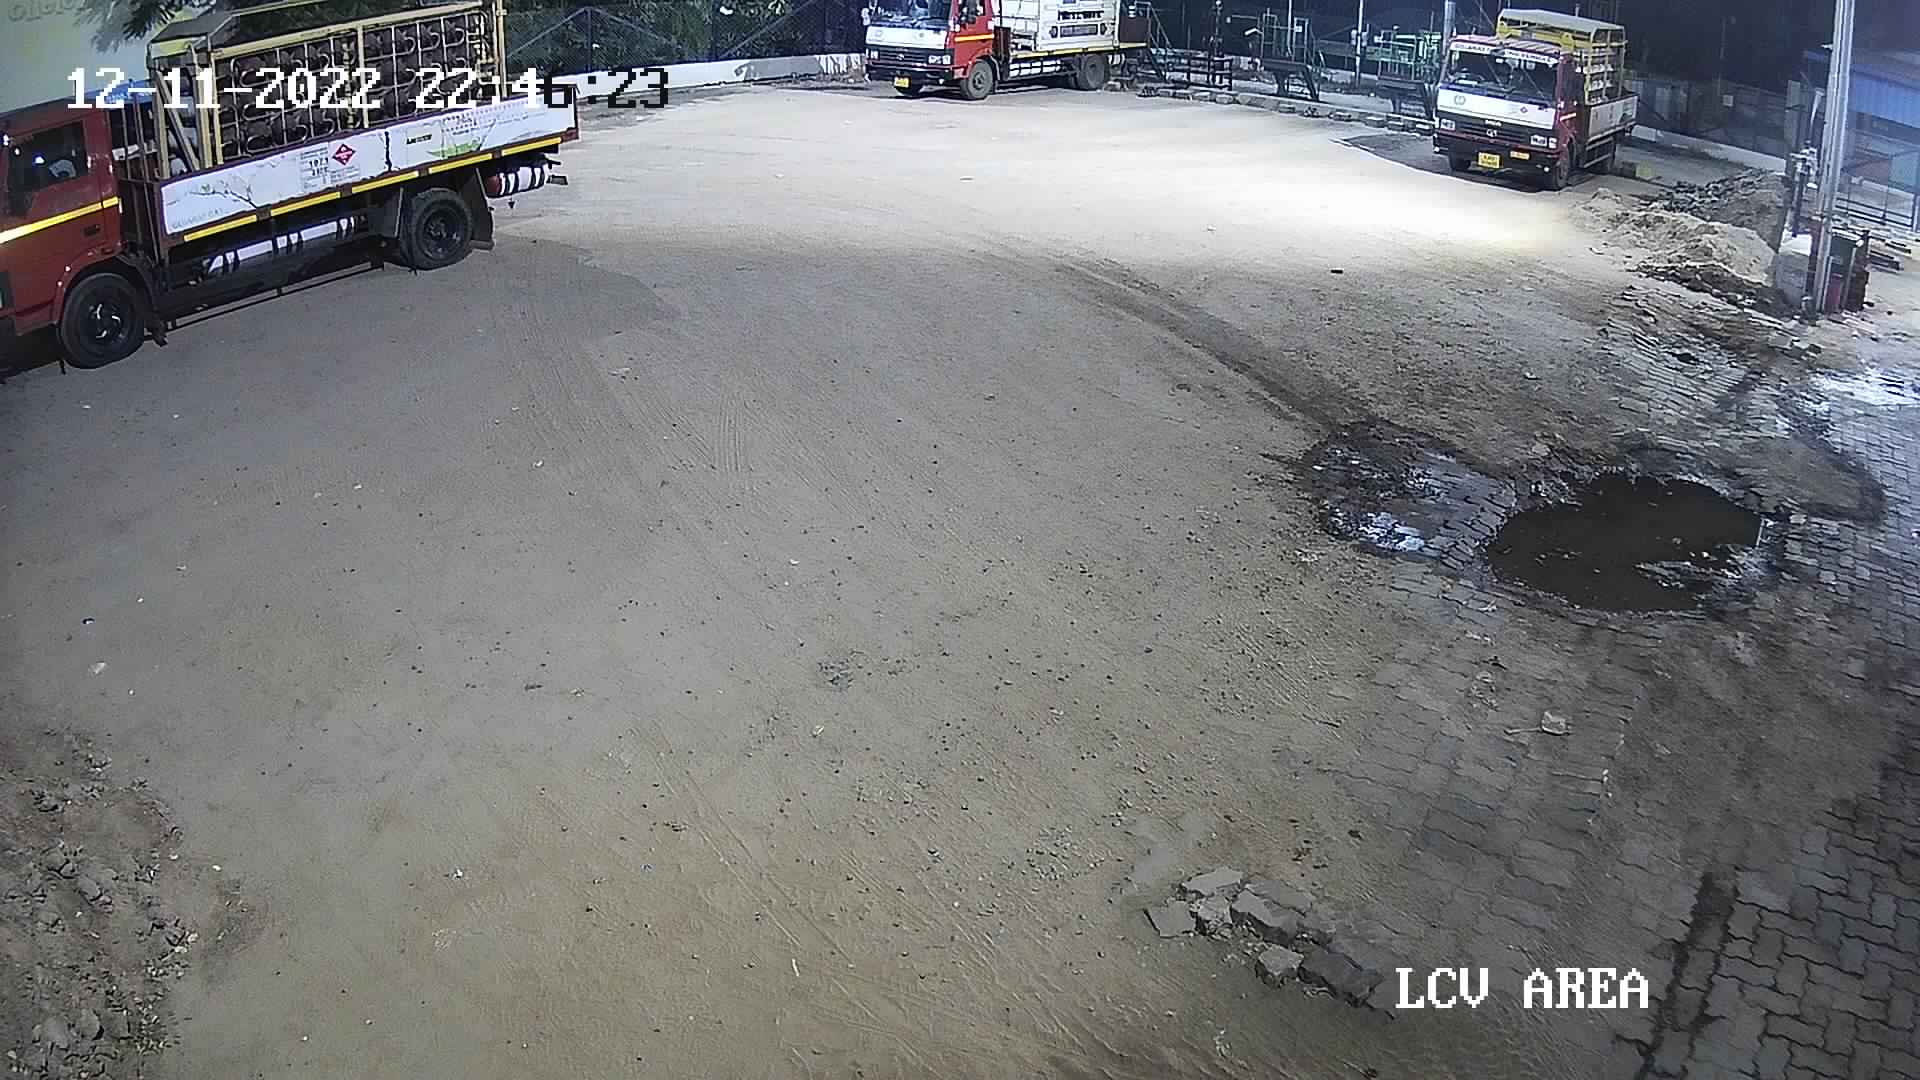HMV: (0, 0, 588, 378), (1420, 1, 1665, 189), (853, 0, 1159, 100)
